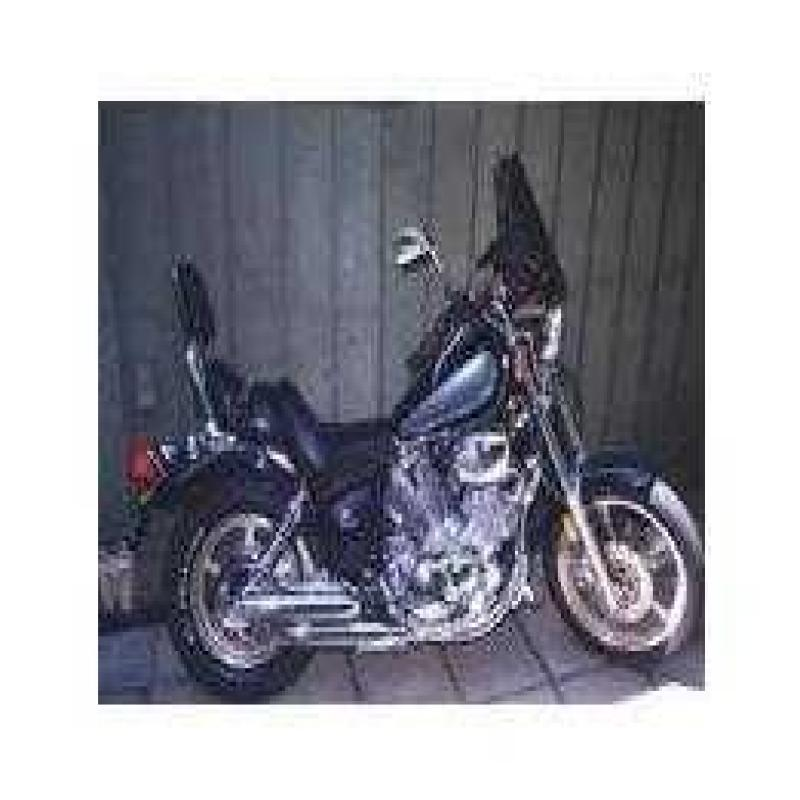bike: (113, 141, 701, 689)
